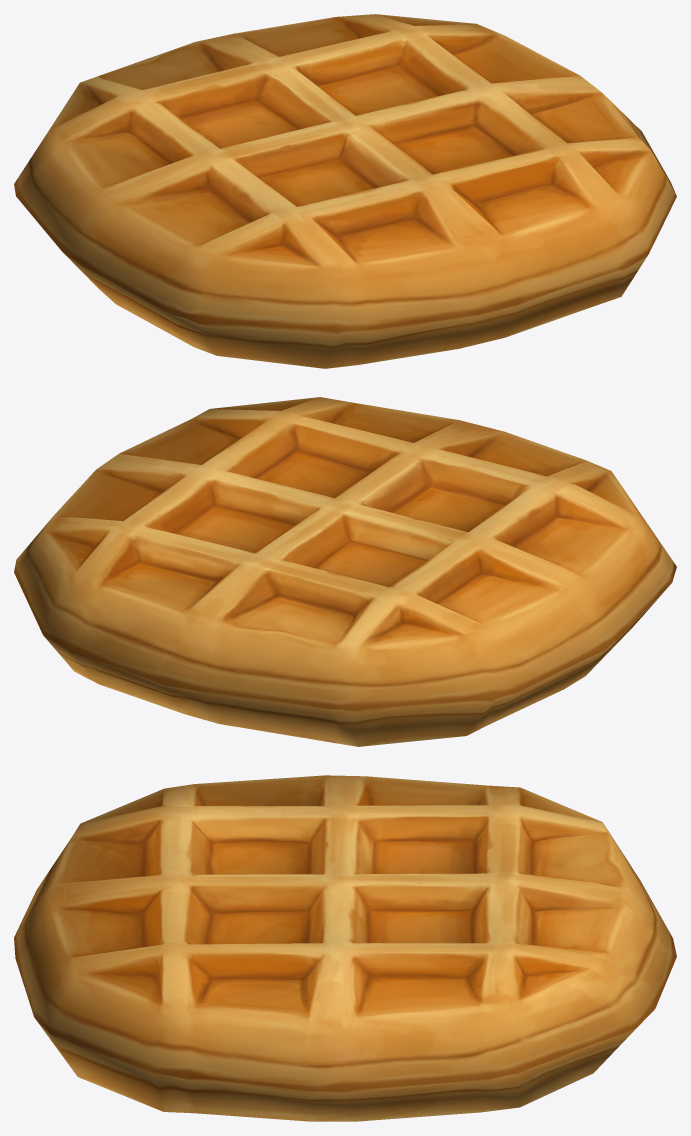
File: ENV1810026.fbx
The picture shows the model from 3 angles, top to bottom: view 1: azimuth 30°, elevation 25°; view 2: azimuth 150°, elevation 25°; view 3: azimuth 270°, elevation 25°; orthographic projection. The views are drawn at different scales.
Parts seen in each view (by area): view 1: smENV1810026; view 2: smENV1810026; view 3: smENV1810026.
Boxes of the visible parts, x1=… form: smENV1810026: x1=14, y1=14, x2=676, y2=368; smENV1810026: x1=14, y1=397, x2=676, y2=746; smENV1810026: x1=14, y1=775, x2=676, y2=1121.
Size of the model in its own units: 14.1 by 3.29 by 13.92.
Materials: 1 (1 with a texture image).
